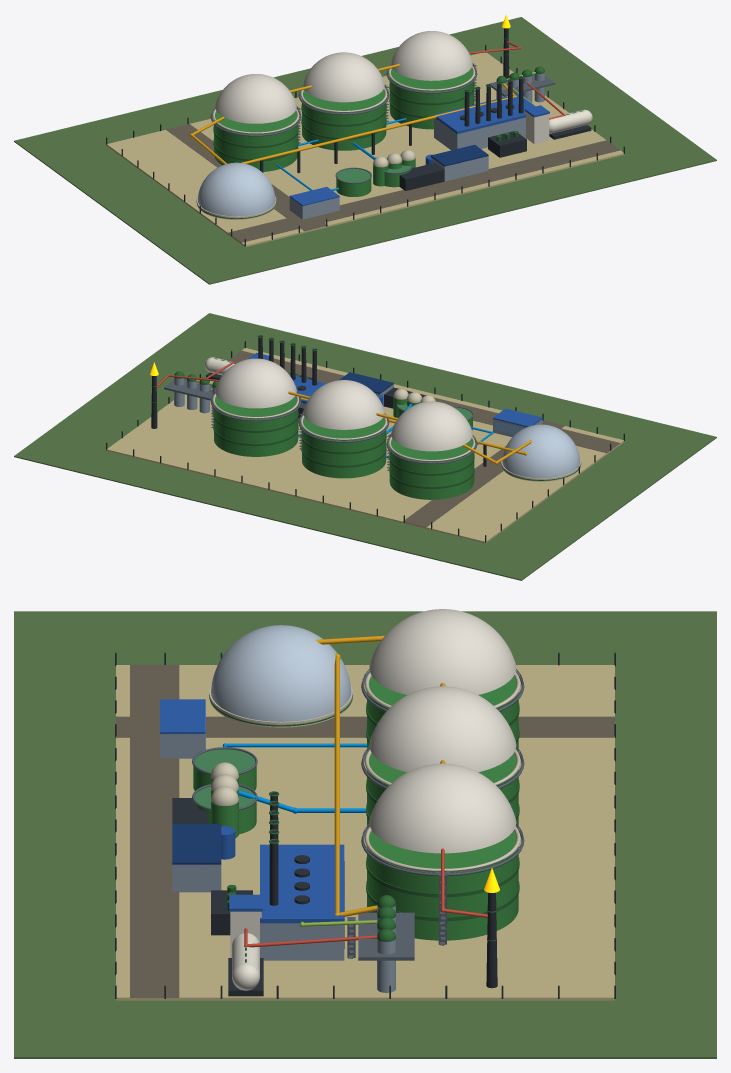
File: fwf-biogas-plant (1).glb
The picture shows the model from 3 angles, top to bottom: view 1: azimuth 30°, elevation 25°; view 2: azimuth 150°, elevation 25°; view 3: azimuth 270°, elevation 25°; orthographic projection. The views are drawn at different scales.
Visible parts, largest first — view 1: landscape_apron, site_pad, road_spine, digester_B_shell, gas_holder_dome, digester_A_shell, digester_A_dome, digester_B_dome, digester_C_dome, digester_C_shell, road_cross, chp_roof_band (+11 smaller); view 2: landscape_apron, site_pad, digester_B_shell, digester_C_shell, digester_A_shell, gas_holder_dome, digester_A_dome, digester_C_dome, digester_B_dome, road_spine, road_cross, control_roof (+2 smaller); view 3: landscape_apron, site_pad, road_spine, gas_holder_dome, digester_C_dome, digester_B_dome, digester_A_dome, digester_C_shell, chp_roof_band, road_cross, chp_building, reception_roof (+17 smaller).
Boxes of the visible parts, <box> form: landscape_apron: <box>14,17,716,284</box>; site_pad: <box>106,52,624,247</box>; road_spine: <box>228,140,619,242</box>; digester_B_shell: <box>302,90,386,150</box>; gas_holder_dome: <box>197,162,275,216</box>; digester_A_shell: <box>214,111,298,171</box>; digester_A_dome: <box>215,74,296,123</box>; digester_B_dome: <box>303,52,384,102</box>; digester_C_dome: <box>391,31,472,80</box>; digester_C_shell: <box>389,68,474,129</box>; road_cross: <box>166,124,327,231</box>; chp_roof_band: <box>434,94,535,133</box>; landscape_apron: <box>14,313,716,580</box>; site_pad: <box>106,348,624,543</box>; digester_B_shell: <box>302,417,386,478</box>; digester_C_shell: <box>214,396,298,456</box>; digester_A_shell: <box>389,439,474,499</box>; gas_holder_dome: <box>502,424,580,478</box>; digester_A_dome: <box>391,401,472,451</box>; digester_C_dome: <box>215,358,296,408</box>; digester_B_dome: <box>303,380,384,429</box>; road_spine: <box>228,350,619,452</box>; road_cross: <box>403,420,564,527</box>; control_roof: <box>493,408,542,426</box>; landscape_apron: <box>14,611,716,1058</box>; site_pad: <box>116,665,614,1000</box>; road_spine: <box>130,664,179,997</box>; gas_holder_dome: <box>211,625,351,721</box>; digester_C_dome: <box>369,763,516,853</box>; digester_B_dome: <box>369,686,516,772</box>; digester_A_dome: <box>369,609,516,694</box>; digester_C_shell: <box>367,830,518,940</box>; chp_roof_band: <box>260,844,344,923</box>; road_cross: <box>116,716,614,737</box>; chp_building: <box>260,923,344,960</box>; reception_roof: <box>172,824,221,864</box>.
Size of the model in its own units: 300 by 44.8 by 200.
